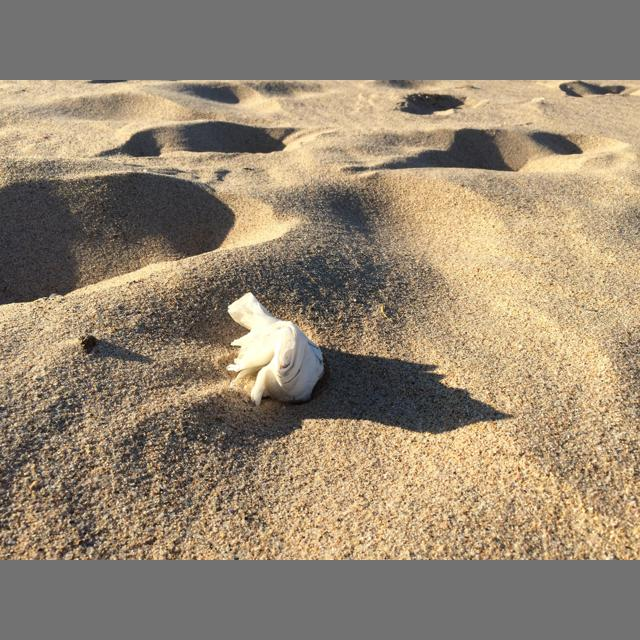litter: (226, 292, 323, 407)
